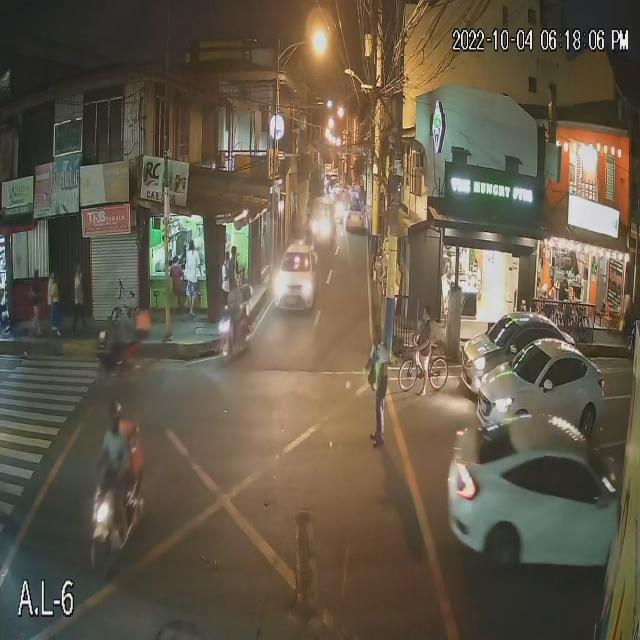helmet: (108, 403, 125, 418)
motorcycle: (84, 479, 152, 563), (218, 311, 260, 360)
rider: (106, 434, 127, 536)
